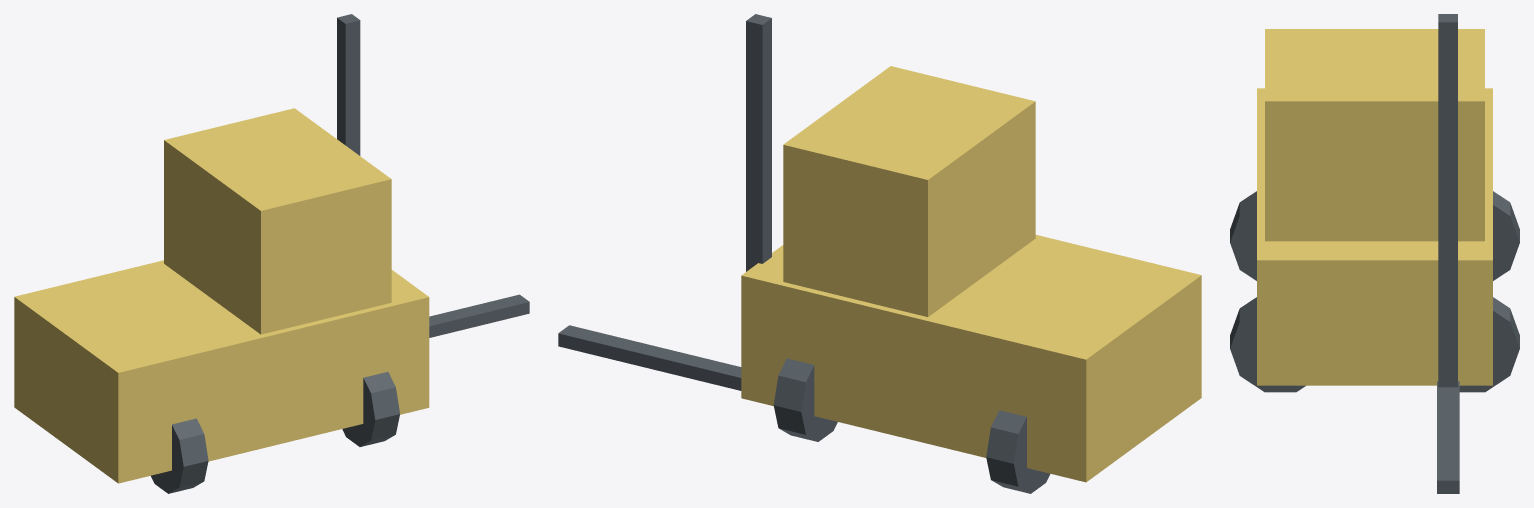
Rendered from forklift_lod0.glb.
3 renders of one model, left to right at view 1: azimuth 30°, elevation 25°; view 2: azimuth 150°, elevation 25°; view 3: azimuth 270°, elevation 25°, orthographic. The views are drawn at different scales.
Visible parts, largest first — view 1: part_0, part_1, part_2, part_7, part_6, part_3; view 2: part_0, part_1, part_2, part_3, part_5, part_4; view 3: part_1, part_0, part_2, part_3, part_7, part_5, part_4, part_6.
Part boxes in pixels (x1,y1,x2,y2): part_0: (14,260,429,483); part_1: (164,108,391,334); part_2: (337,14,360,155); part_7: (342,372,399,446); part_6: (151,418,208,493); part_3: (429,294,529,337); part_0: (741,235,1201,482); part_1: (783,66,1035,316); part_2: (746,14,771,271); part_3: (558,325,741,390); part_5: (773,358,837,441); part_4: (986,410,1050,493); part_1: (1265,29,1484,241); part_0: (1257,88,1492,385); part_2: (1438,14,1457,387); part_3: (1437,381,1459,493); part_7: (1230,297,1305,392); part_5: (1459,297,1519,392); part_4: (1493,191,1519,280); part_6: (1230,191,1256,280).
Size of the model in its own units: 3.94 by 2.7 by 1.78.
